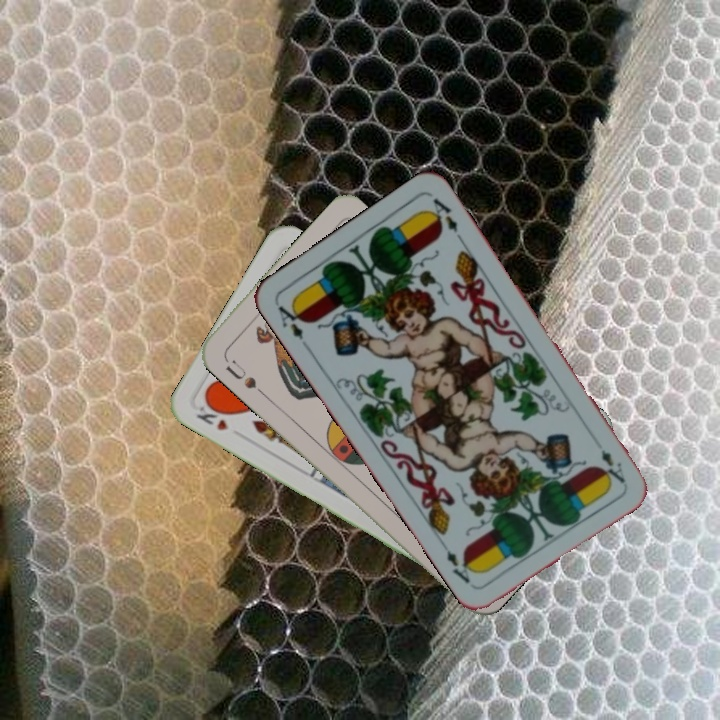EA: (273, 299, 312, 352), (596, 445, 628, 487)
HK: (192, 402, 231, 433)
SU: (221, 355, 268, 398)
